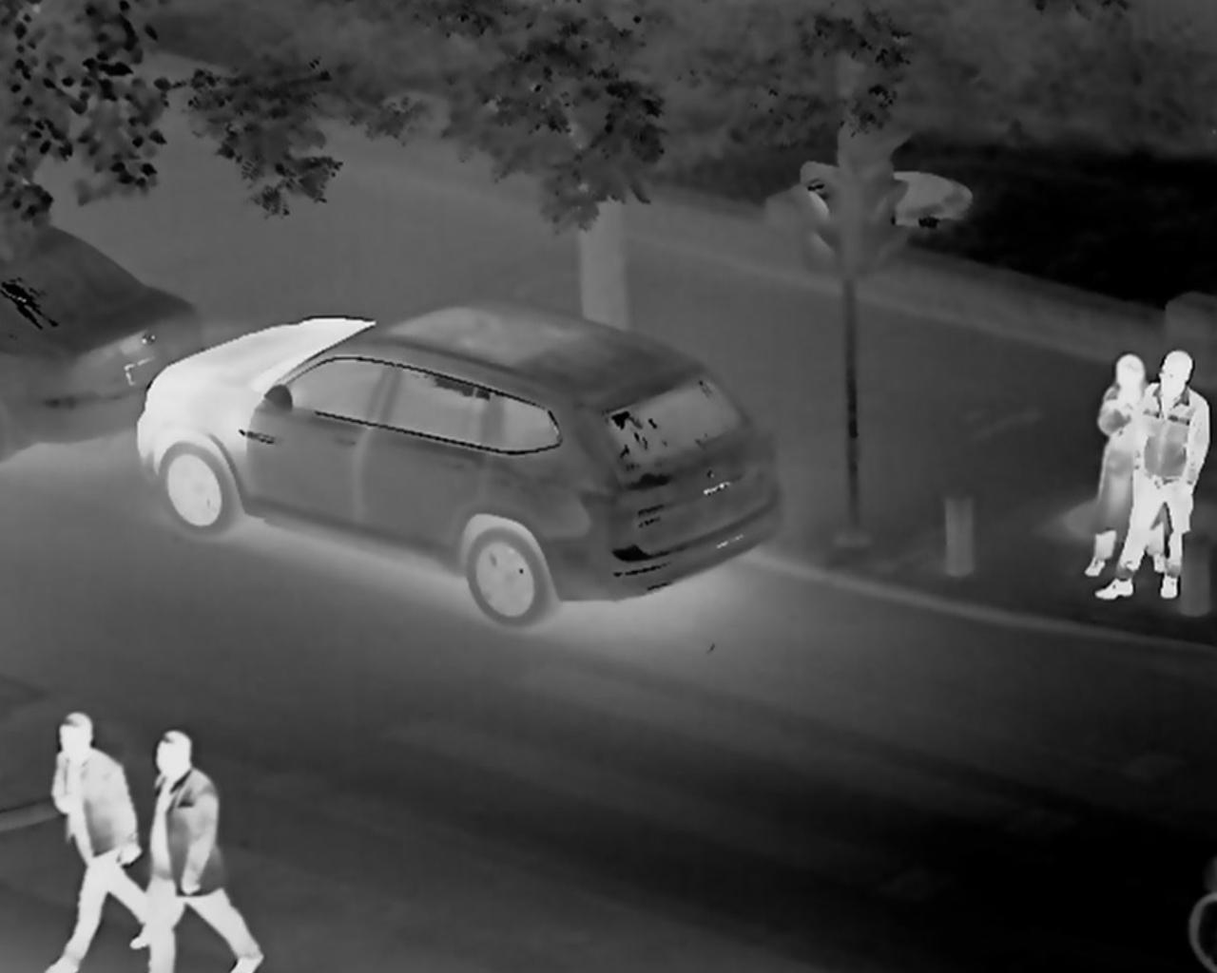person: (126, 719, 255, 973), (28, 685, 117, 973), (1135, 351, 1204, 648), (1079, 341, 1133, 572)
